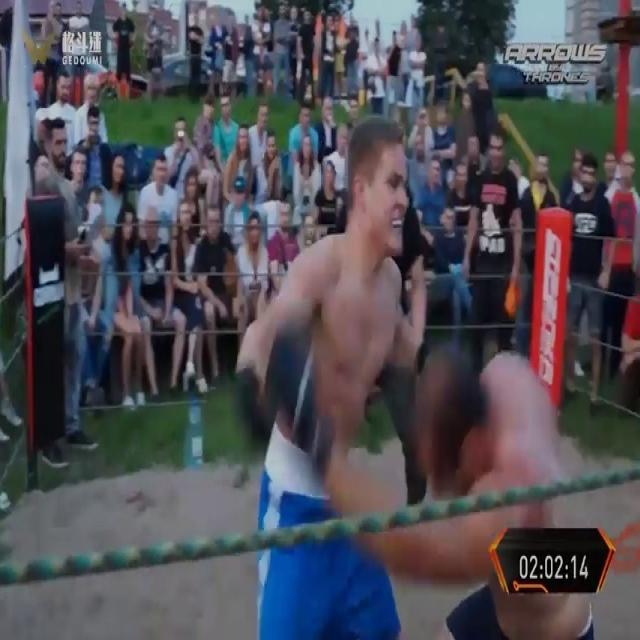fight: (235, 105, 612, 639)
non-fight: (565, 145, 614, 423)
